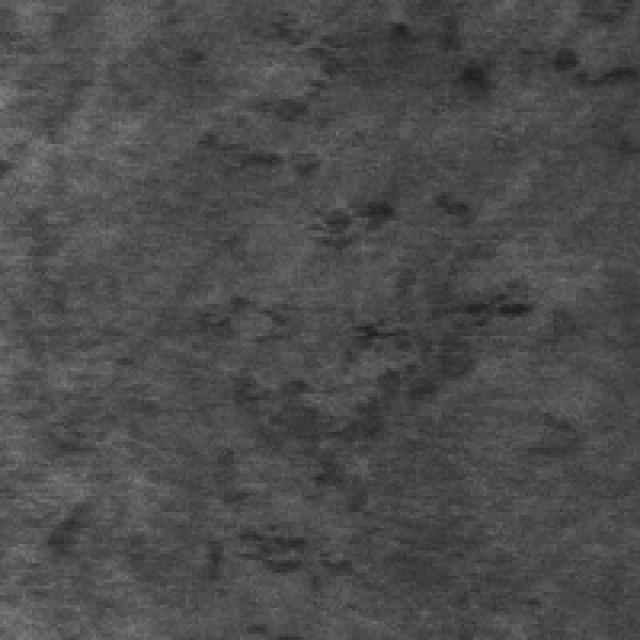rolled-in_scale: (208, 185, 534, 572), (266, 7, 636, 122)
